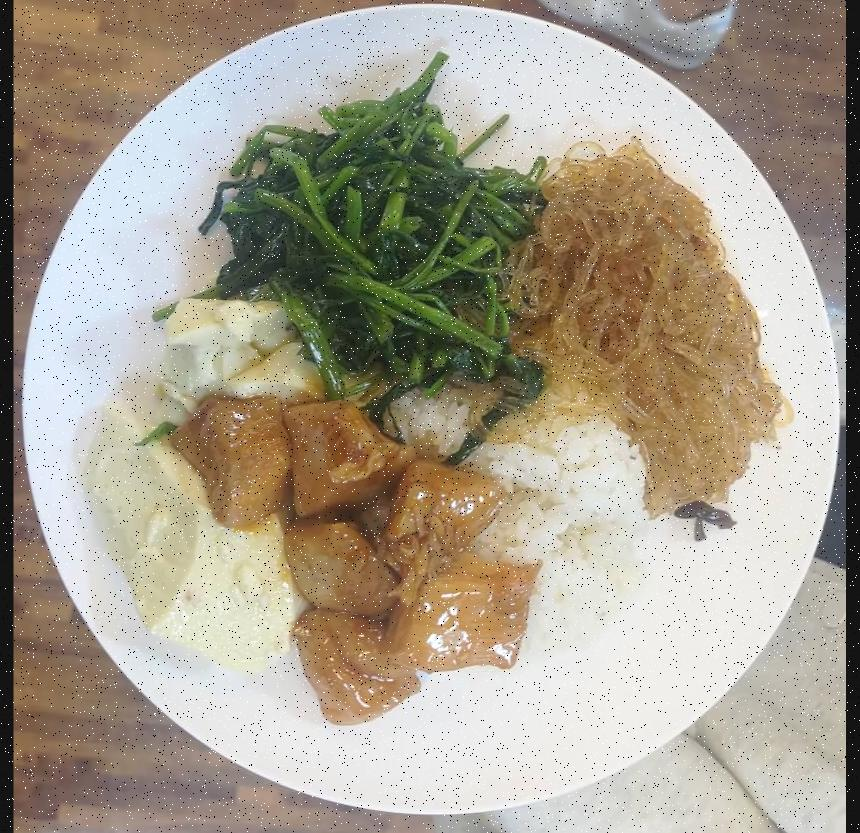plate: (13, 5, 834, 822)
side dish: (203, 67, 542, 413), (504, 134, 796, 511), (80, 291, 315, 669)
spicy chicken: (184, 392, 540, 723)
white rice: (385, 357, 652, 637)
